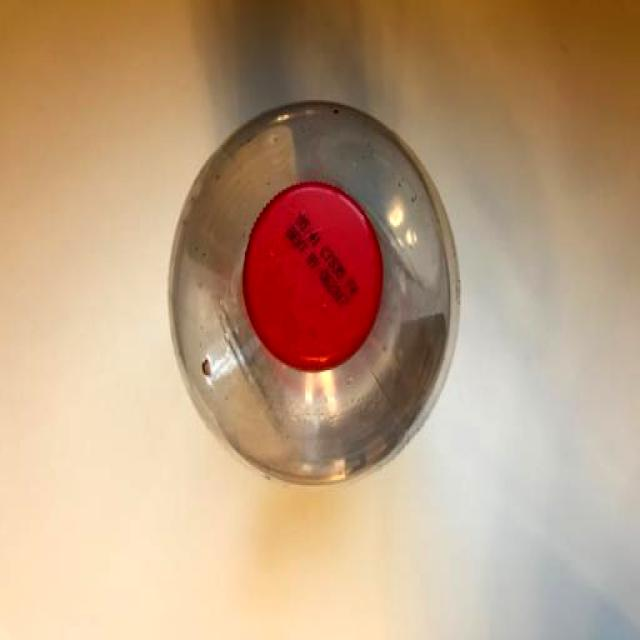Plastic: (159, 94, 465, 492)
